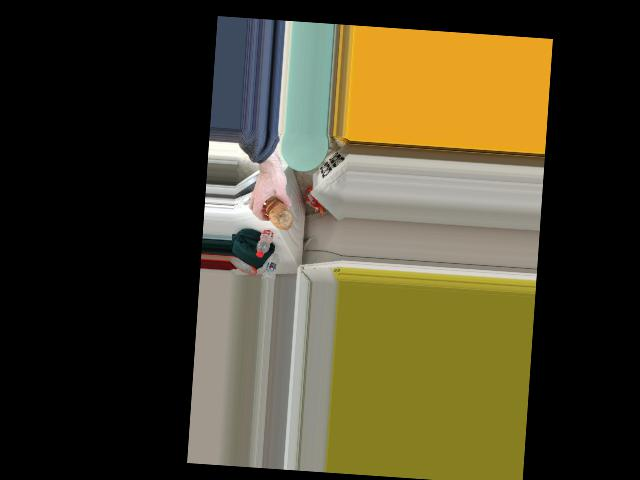sweet_potato: (264, 195, 293, 231)
